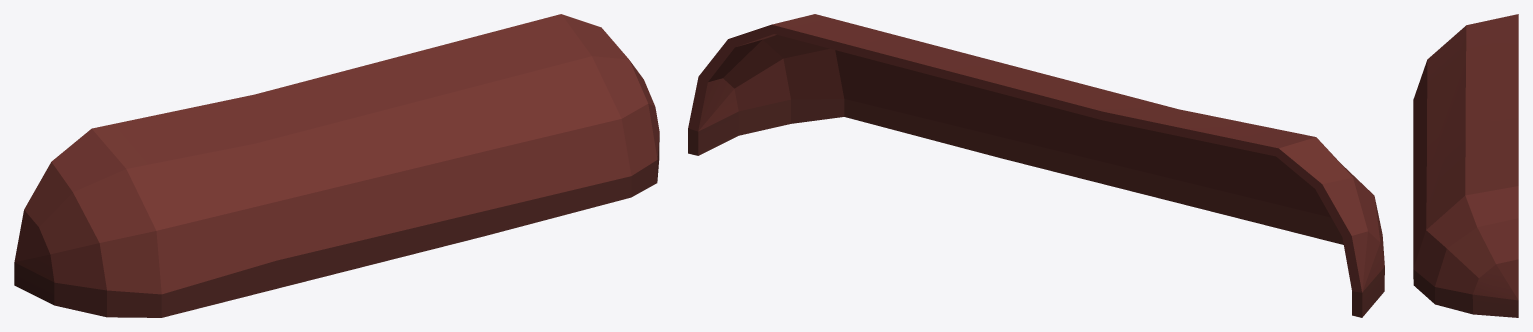
The model's file is SM_Bld_Sunshade_Round_03.obj.
The picture shows the model from 3 angles, left to right: view 1: azimuth 30°, elevation 25°; view 2: azimuth 150°, elevation 25°; view 3: azimuth 270°, elevation 25°; orthographic projection. The views are drawn at different scales.
Parts seen in each view (by area): view 1: SM_Bld_Sunshade_Round_03_0; view 2: SM_Bld_Sunshade_Round_03_0; view 3: SM_Bld_Sunshade_Round_03_0.
Boxes of the visible parts, x1=… form: SM_Bld_Sunshade_Round_03_0: x1=14, y1=14, x2=659, y2=317; SM_Bld_Sunshade_Round_03_0: x1=688, y1=14, x2=1384, y2=317; SM_Bld_Sunshade_Round_03_0: x1=1413, y1=14, x2=1518, y2=317.
Bounding box in the file's own units: 4.63 × 0.9803 × 0.9023.
Materials: 1 (1 with a texture image).
